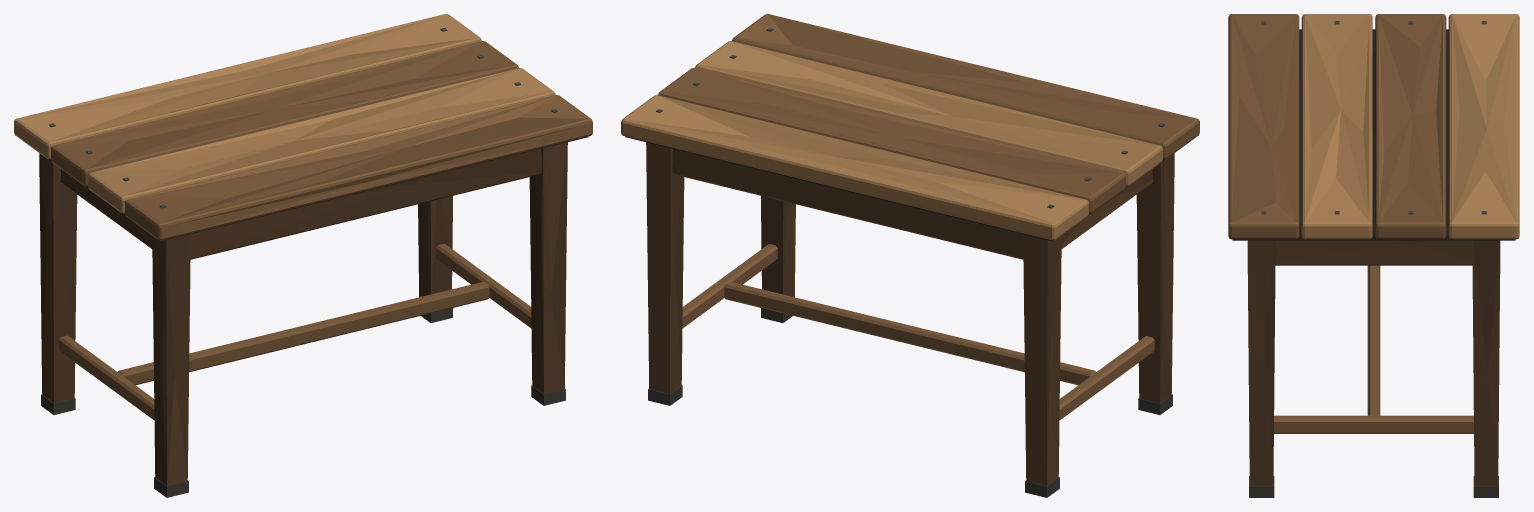
The model's file is table_wood_obedennyy_idle.glb.
3 renders of one model, left to right at view 1: azimuth 30°, elevation 25°; view 2: azimuth 150°, elevation 25°; view 3: azimuth 270°, elevation 25°, orthographic.
Parts seen in each view (by area): view 1: table_wood_obedennyy_idle; view 2: table_wood_obedennyy_idle; view 3: table_wood_obedennyy_idle.
Boxes of the visible parts, x1,y1,x2,y2 form: table_wood_obedennyy_idle: [14, 14, 592, 497]; table_wood_obedennyy_idle: [621, 14, 1199, 497]; table_wood_obedennyy_idle: [1228, 14, 1519, 497].
Size of the model in its own units: 1.2 by 0.753 by 0.7.
1 material, 1 textured.
